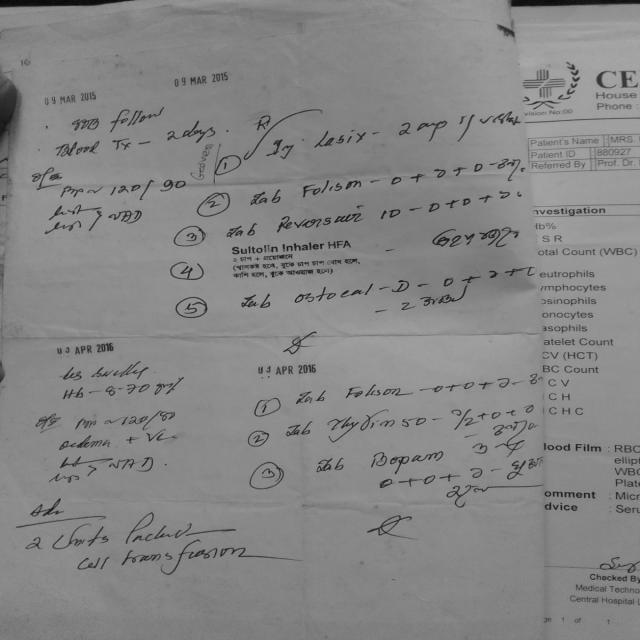Bopam: (370, 447, 449, 470)
Folison: (342, 379, 410, 402), (299, 176, 372, 196)
Lasix: (309, 123, 372, 151)
Ostocal D: (287, 273, 415, 304)
Reversair: (272, 207, 369, 233)
Thyrin: (328, 410, 401, 439)
